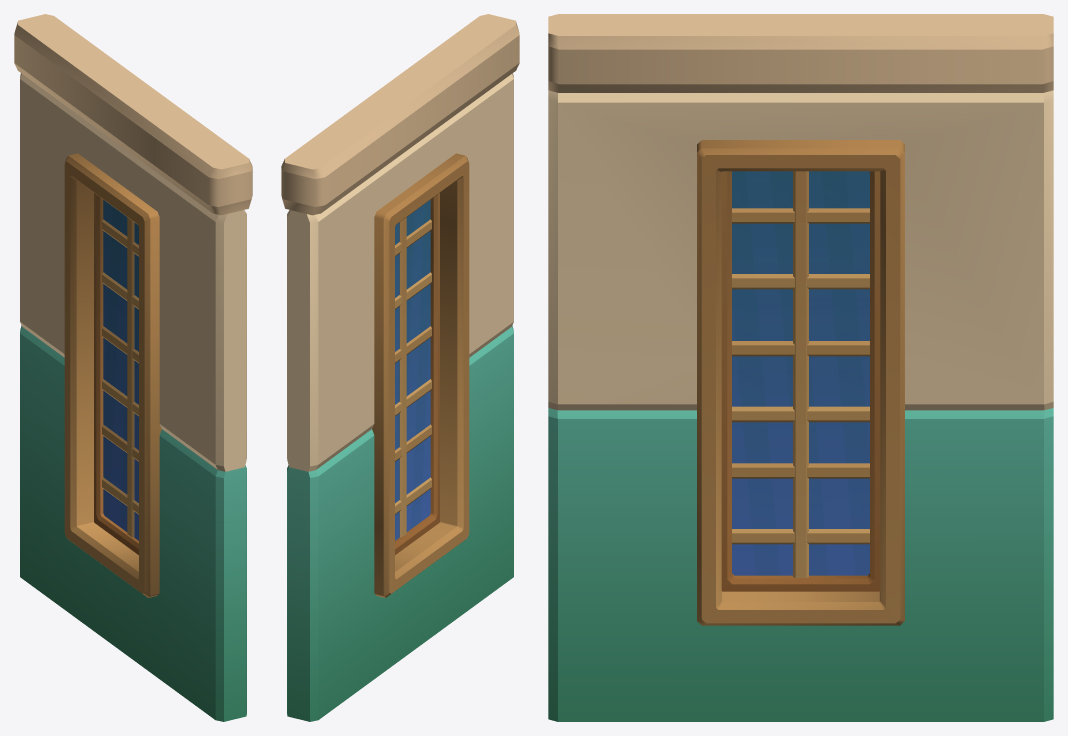
Rendered from Wall_A_4.glb.
The picture shows the model from 3 angles, left to right: view 1: azimuth 30°, elevation 25°; view 2: azimuth 150°, elevation 25°; view 3: azimuth 270°, elevation 25°; orthographic projection. The views are drawn at different scales.
Visible parts, largest first — view 1: Wall_A_4; view 2: Wall_A_4; view 3: Wall_A_4.
Boxes of the visible parts, x1,y1,x2,y2 form: Wall_A_4: (14,14,252,721); Wall_A_4: (281,14,519,721); Wall_A_4: (548,14,1053,721).
Size of the model in its own units: 0.3277 by 3 by 2.
2 materials, 2 textured.
